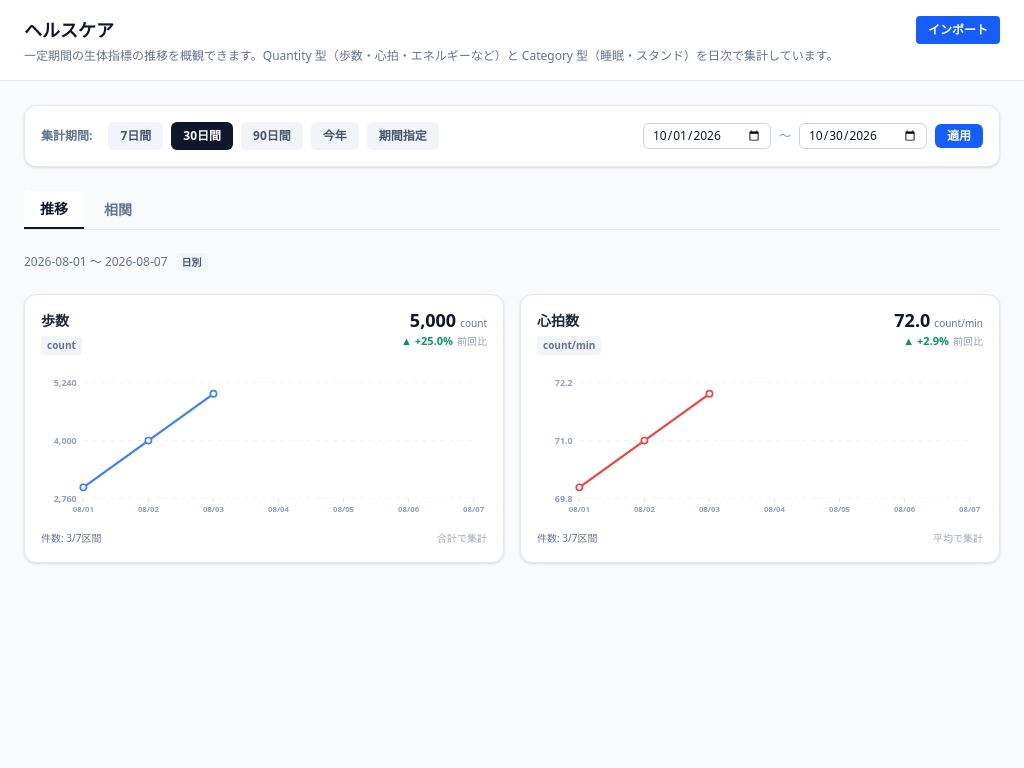
Test: HealthcarePage › switches to correlation tab and shows scatter
The width and height of the screenshot is (1024, 768).
Click the button "相関".
click(118, 210)  # box [88, 191, 148, 229]
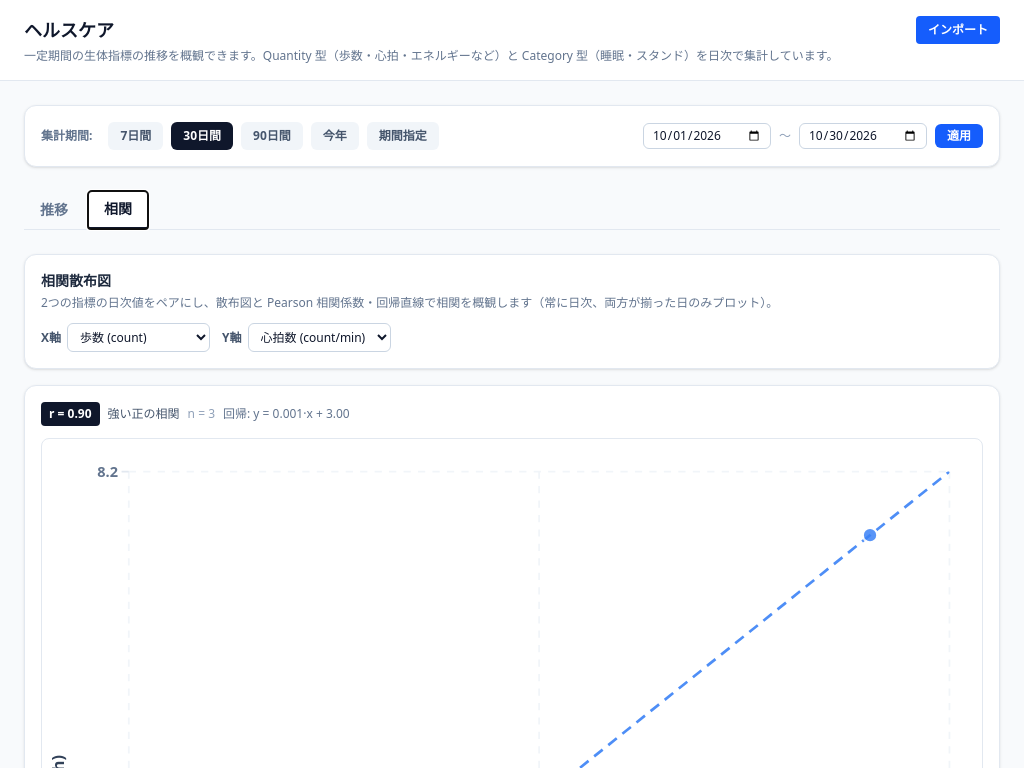
Result: the heading "相関散布図" is shown at [41, 271, 111, 290]
Result: the dropdown named "X軸メトリック" is shown at [67, 323, 210, 352]
Result: the dropdown named "Y軸メトリック" is shown at [248, 323, 390, 352]
